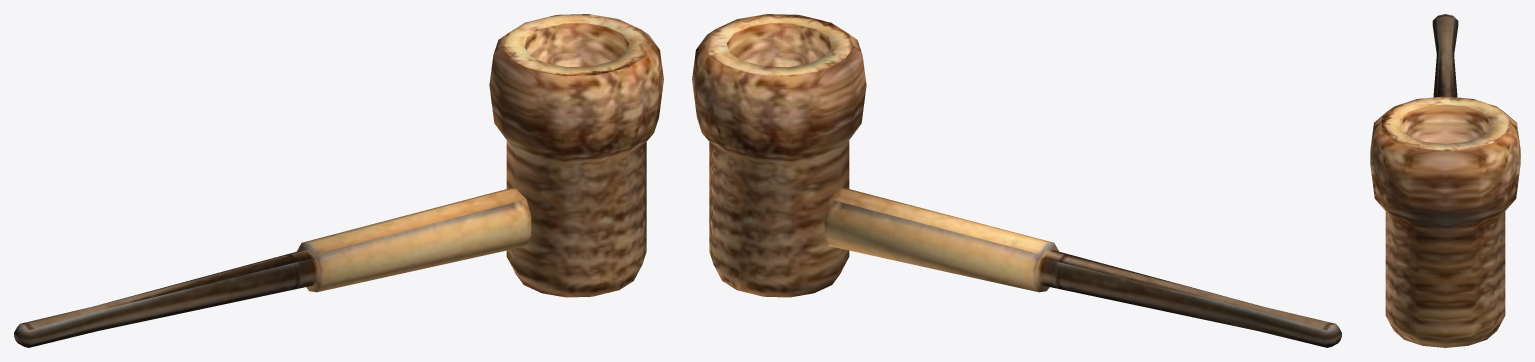
File: pipe.obj
3 views of the same model, side by side, from view 1: azimuth 30°, elevation 25°; view 2: azimuth 150°, elevation 25°; view 3: azimuth 270°, elevation 25° (orthographic). The views are drawn at different scales.
Parts seen in each view (by area): view 1: pipe; view 2: pipe; view 3: pipe.
Part boxes in pixels (x1=…): pipe: x1=14, y1=14, x2=663, y2=347; pipe: x1=692, y1=14, x2=1341, y2=347; pipe: x1=1370, y1=14, x2=1520, y2=347.
Size of the model in its own units: 0.1829 by 0.0626 by 0.0423.
1 material, 1 textured.
